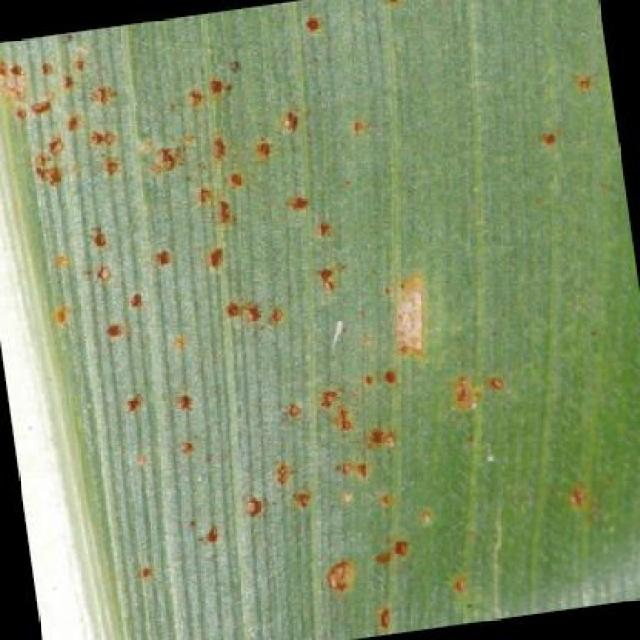Corn_Rust: (84, 29, 524, 609)
